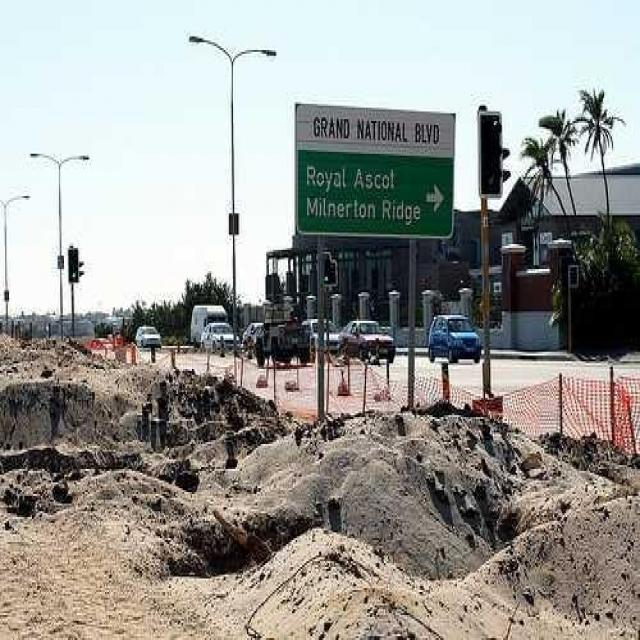red_light: (68, 244, 80, 283), (323, 250, 331, 286)
